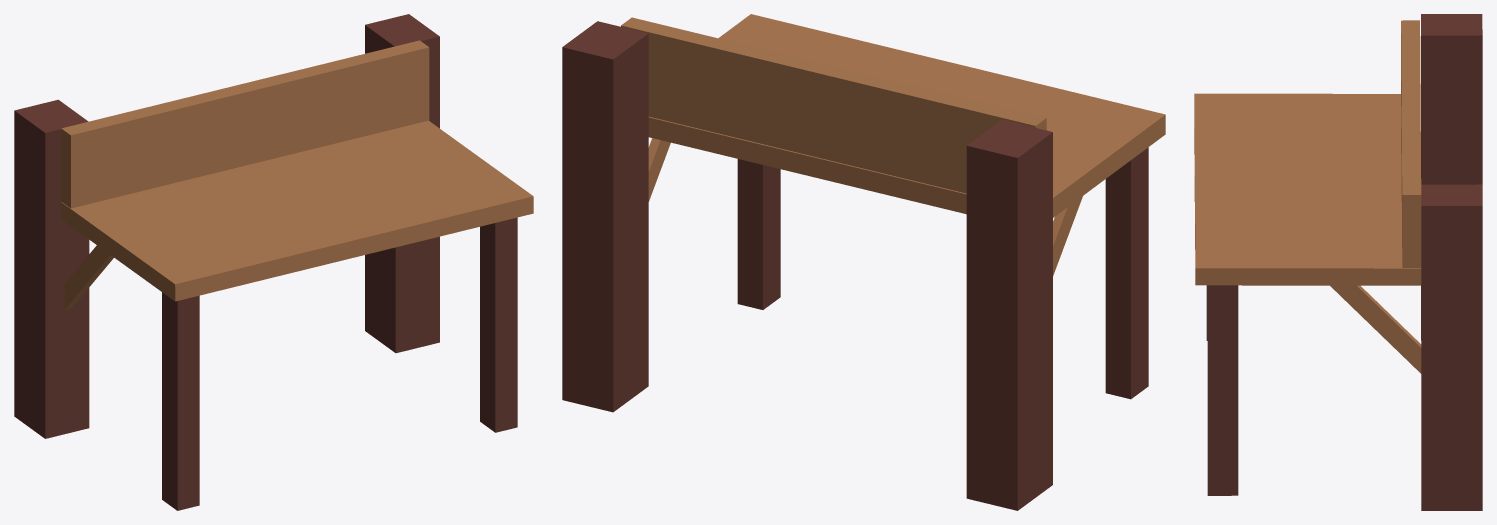
The model's file is bench-table.fbx.
3 renders of one model, left to right at view 1: azimuth 30°, elevation 25°; view 2: azimuth 150°, elevation 25°; view 3: azimuth 270°, elevation 25°, orthographic. The views are drawn at different scales.
Visible parts, largest first — view 1: bench.002; view 2: bench.002; view 3: bench.002.
Boxes of the visible parts, x1,y1,x2,y2 form: bench.002: [14, 14, 533, 510]; bench.002: [562, 14, 1165, 510]; bench.002: [1194, 14, 1482, 510].
Size of the model in its own units: 73.02 by 54.26 by 46.37.
